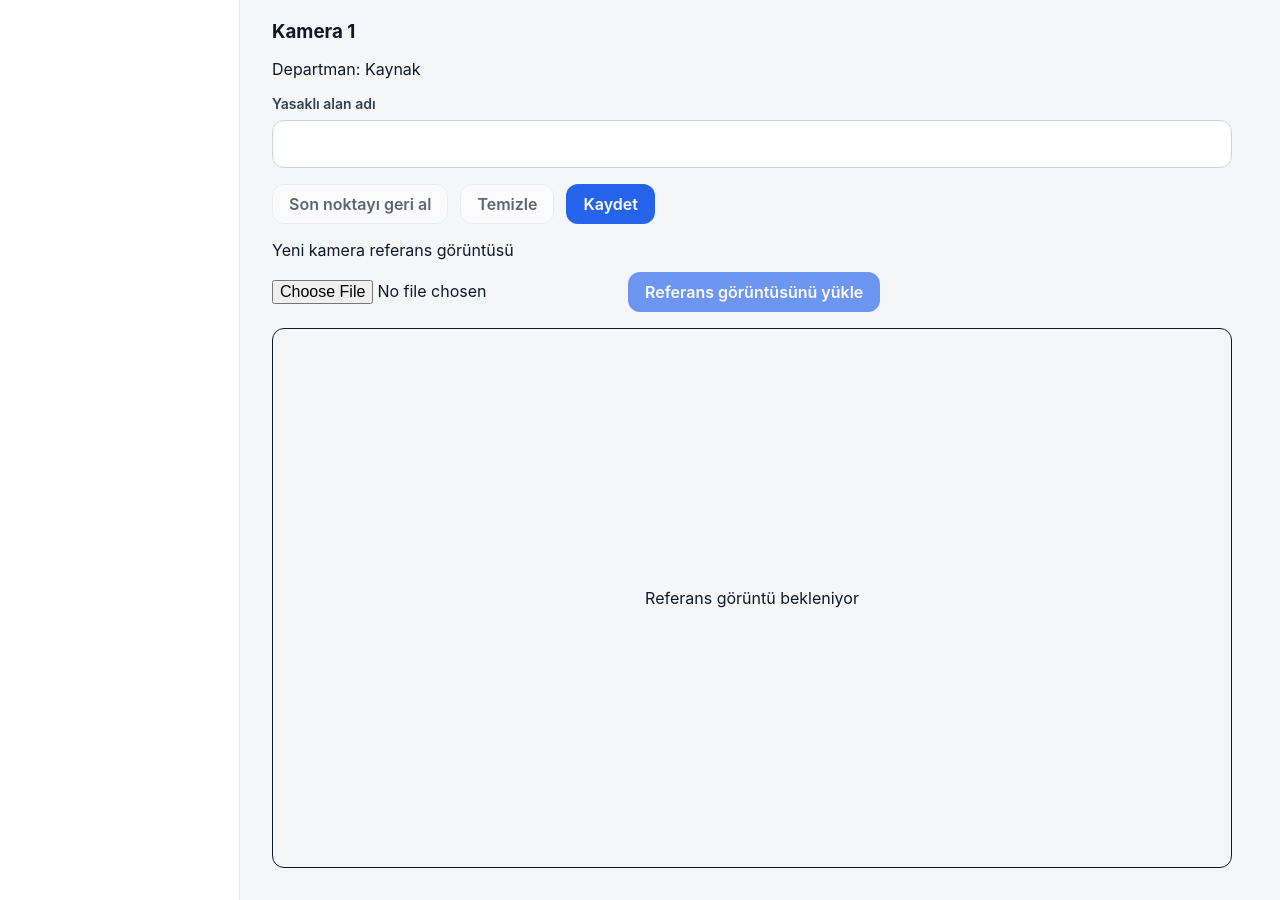
Test: RestrictedZoneEditorPage › undoes the last polygon point
(page scrolled)
Click the element named "Yasaklı alan çizim alanı": (752,598) [272,328,1232,868]
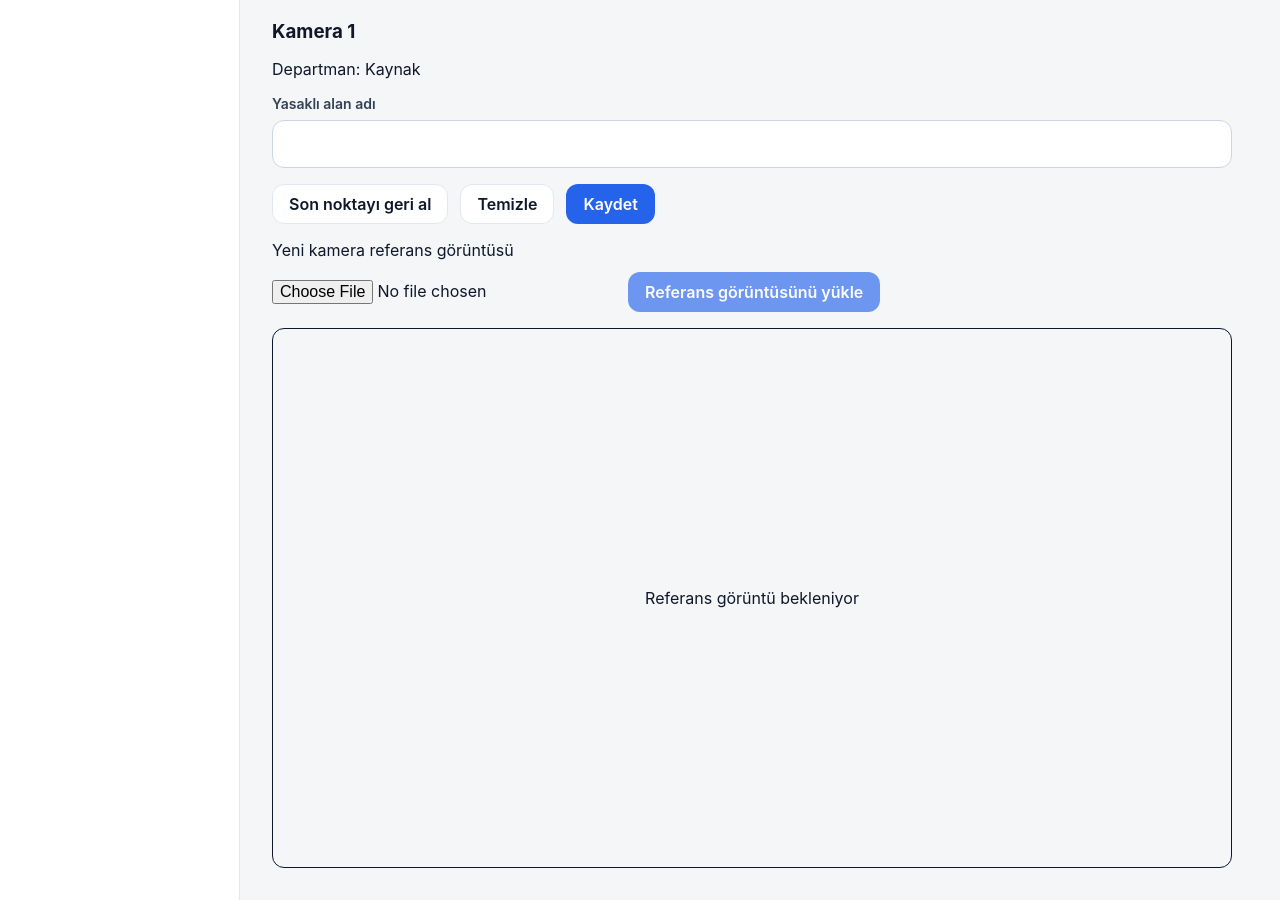
Expected: the button "Son noktayı geri al" is enabled
Click the button "Son noktayı geri al": (360,204) [272,184,448,224]
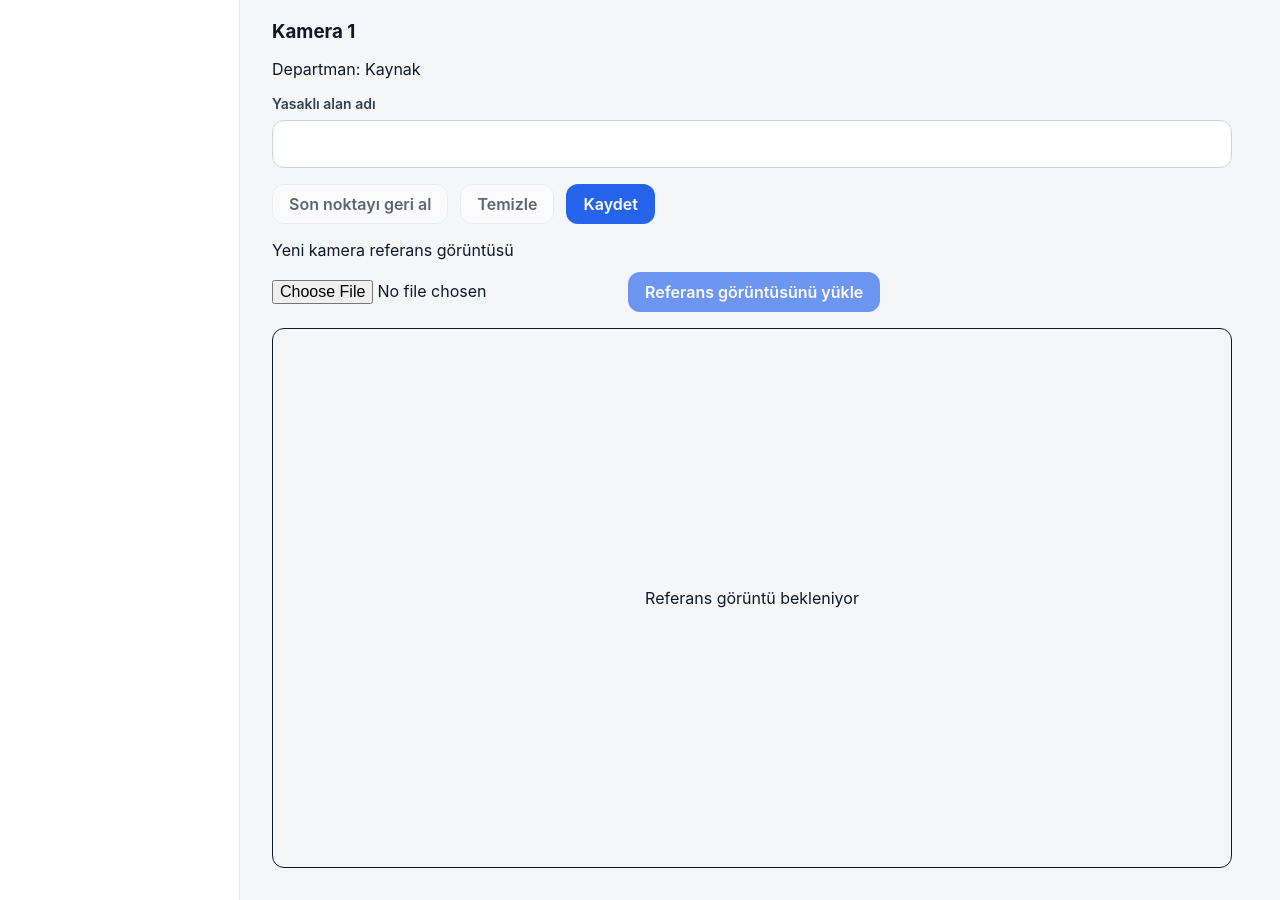
Expected: the button "Son noktayı geri al" is disabled, [272,184,448,224]
